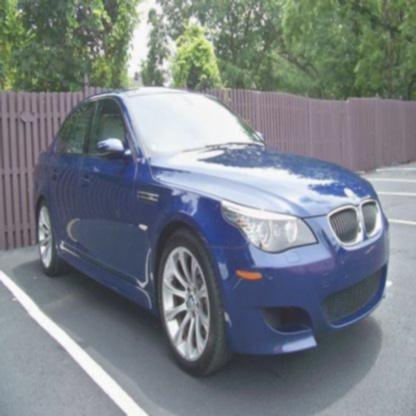Vehicle: (30, 86, 392, 380)
